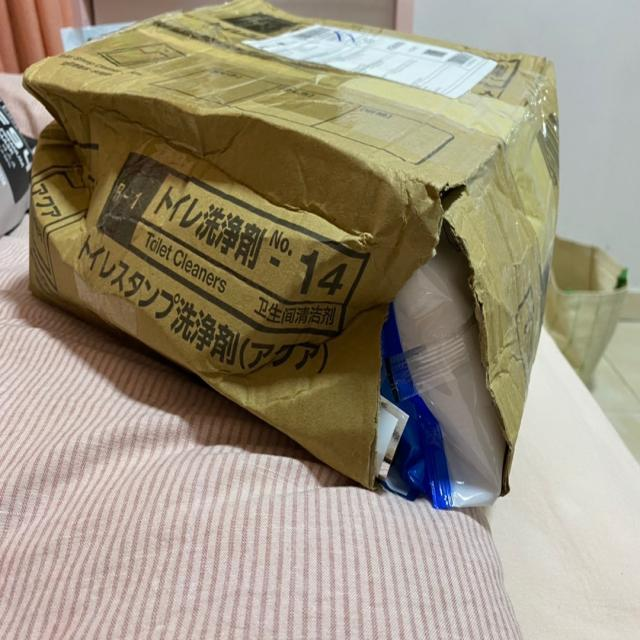hole: (367, 183, 513, 497)
